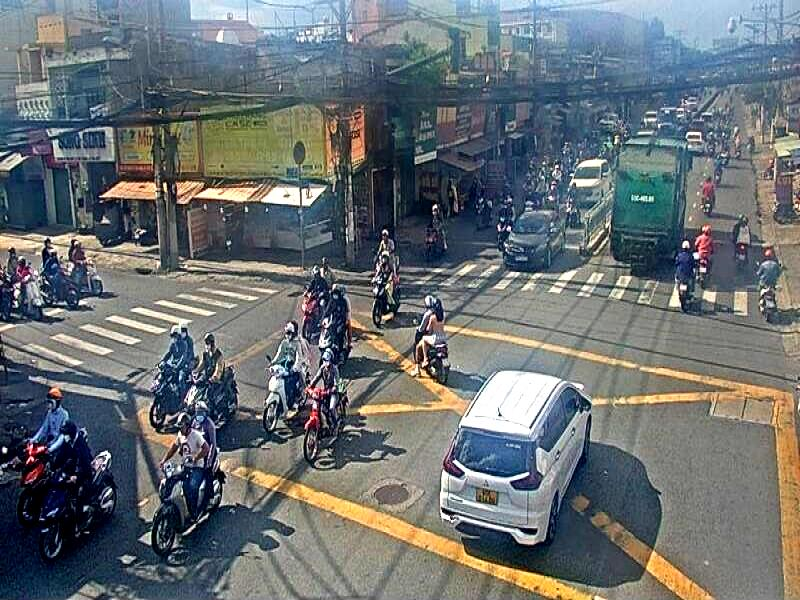car: (439, 375, 590, 552), (501, 203, 564, 281), (572, 159, 608, 192)
motorcycle: (32, 459, 118, 562), (149, 453, 232, 554), (286, 382, 360, 463), (250, 360, 304, 426), (144, 351, 178, 442)
truck: (608, 118, 692, 274)
